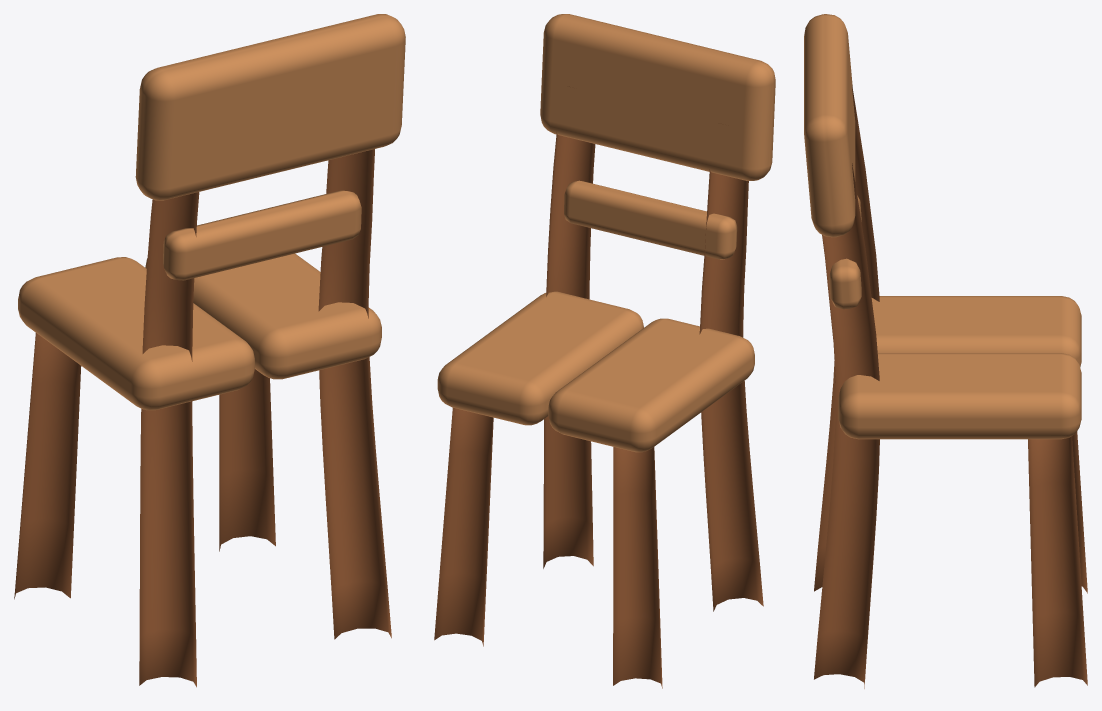
Rendered from PROP_CHAIR.glb.
3 renders of one model, left to right at view 1: azimuth 30°, elevation 25°; view 2: azimuth 150°, elevation 25°; view 3: azimuth 270°, elevation 25°, orthographic. The views are drawn at different scales.
Visible parts, largest first — view 1: legs, back_top, seat, back_rail; view 2: legs, seat, back_top, back_rail; view 3: legs, seat, back_top, back_rail.
Part boxes in pixels (left/top/right/bottom): legs: left=14, top=149, right=391, bottom=687; back_top: left=135, top=14, right=405, bottom=200; seat: left=18, top=253, right=381, bottom=410; back_rail: left=163, top=190, right=361, bottom=280; legs: left=434, top=86, right=763, bottom=688; seat: left=437, top=291, right=754, bottom=452; back_top: left=540, top=14, right=775, bottom=180; back_rail: left=564, top=180, right=737, bottom=259; legs: left=814, top=85, right=1087, bottom=688; seat: left=838, top=296, right=1081, bottom=439; back_top: left=804, top=14, right=855, bottom=237; back_rail: left=829, top=195, right=861, bottom=309.
Bounding box in the file's own units: 1.75 × 4.06 × 1.81.
